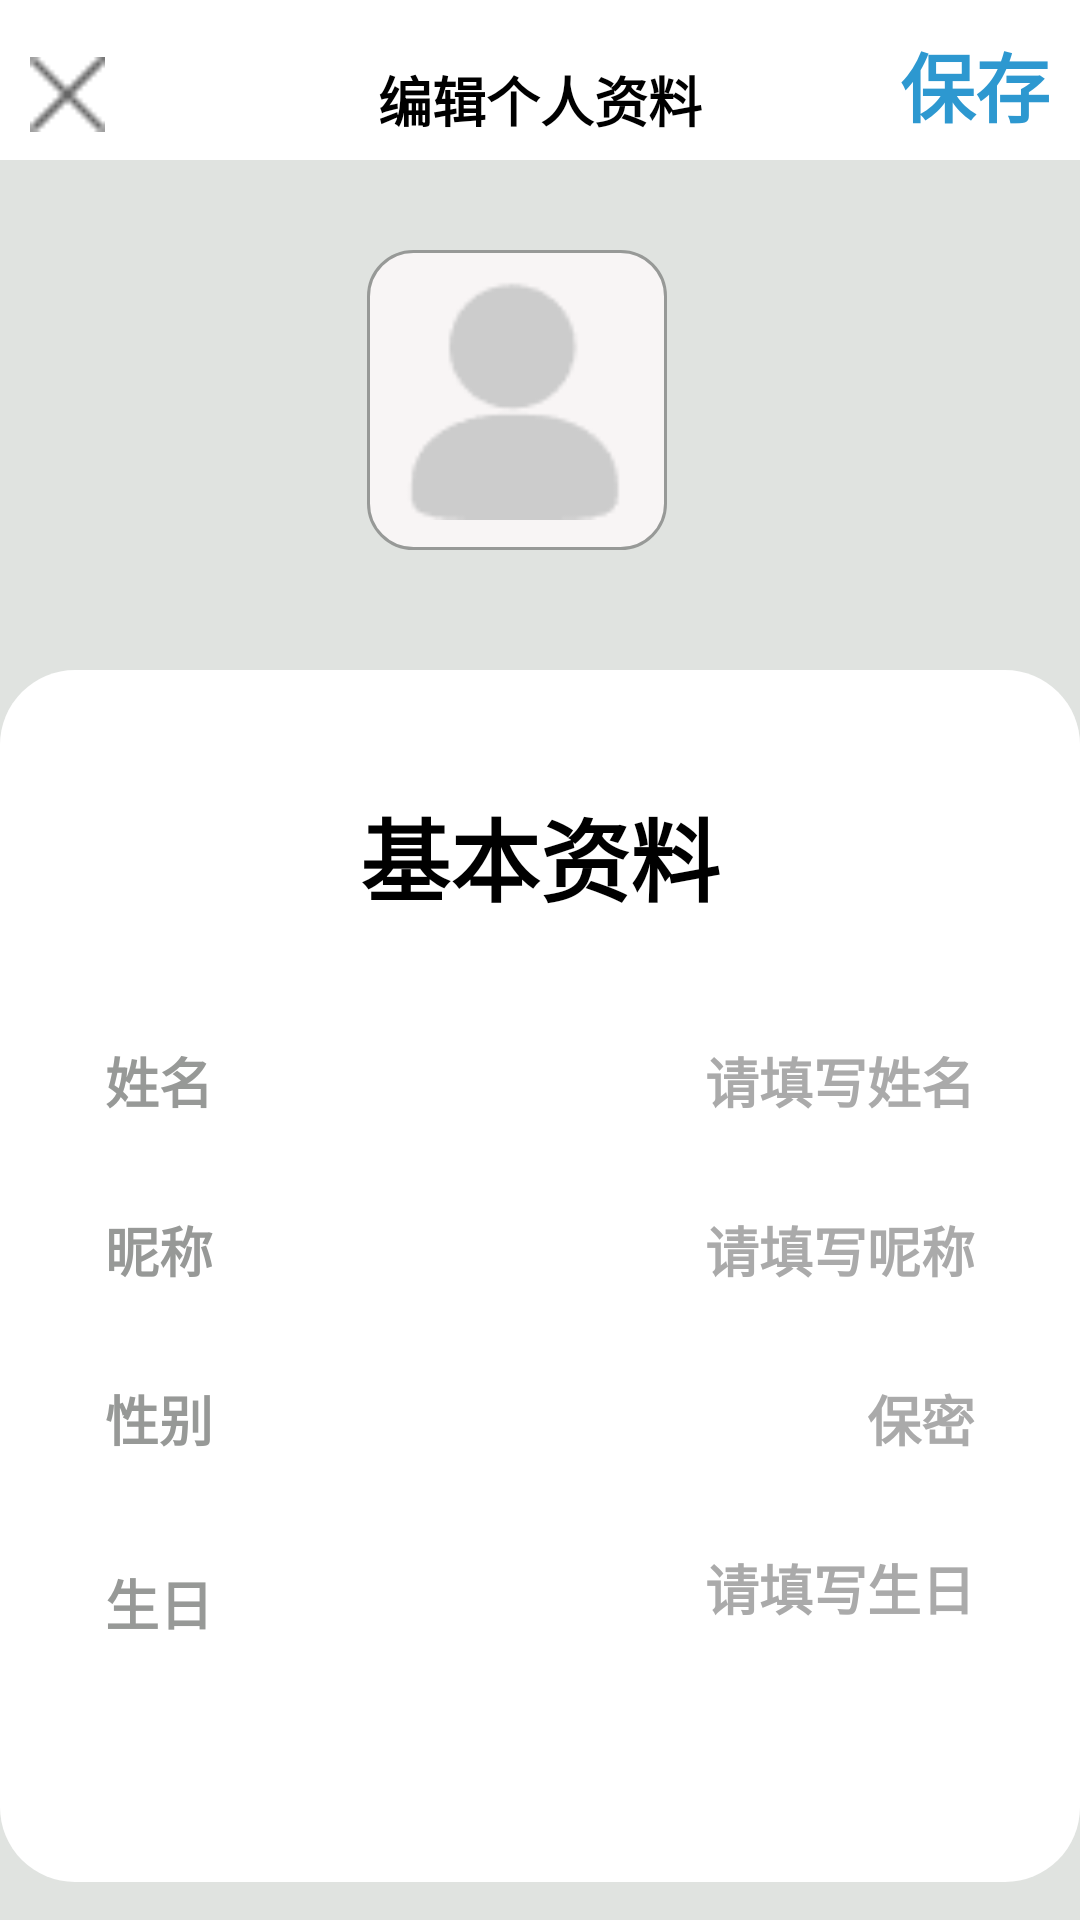

Point at icon controls on the screen. Image size 1080x1920, points as [x,y].
delete: [67,94]
morentouxiang: [517,400]
